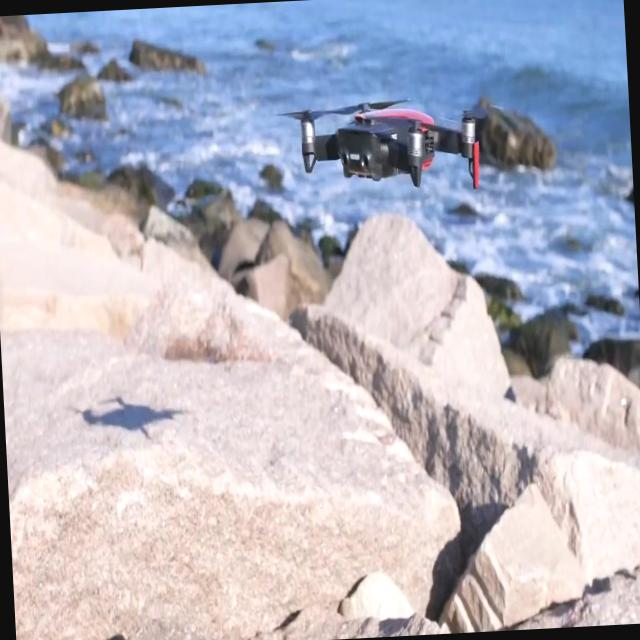drone: (273, 94, 499, 202)
